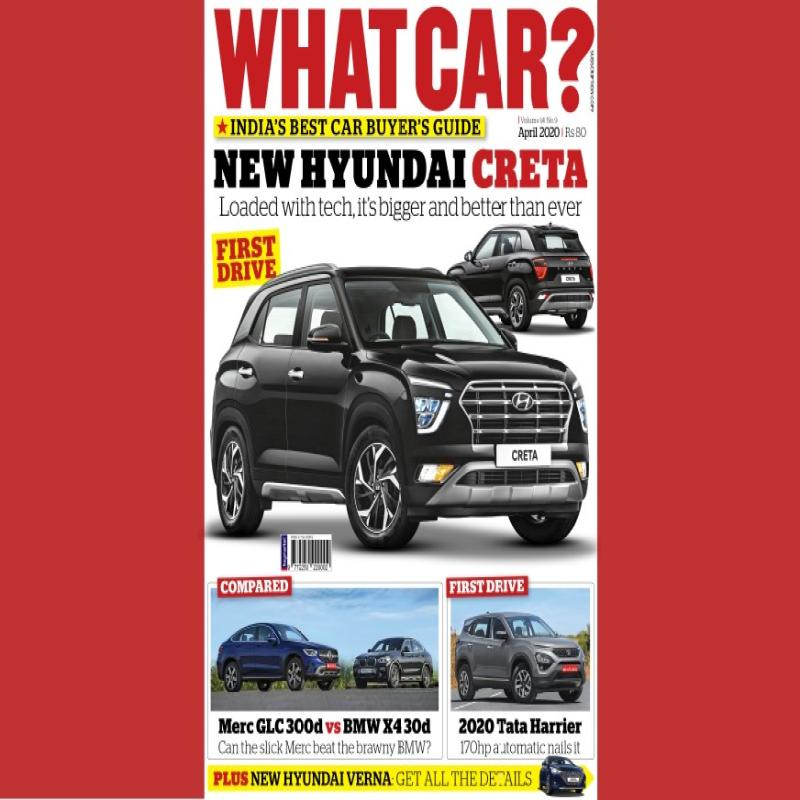car: (209, 255, 592, 574)
